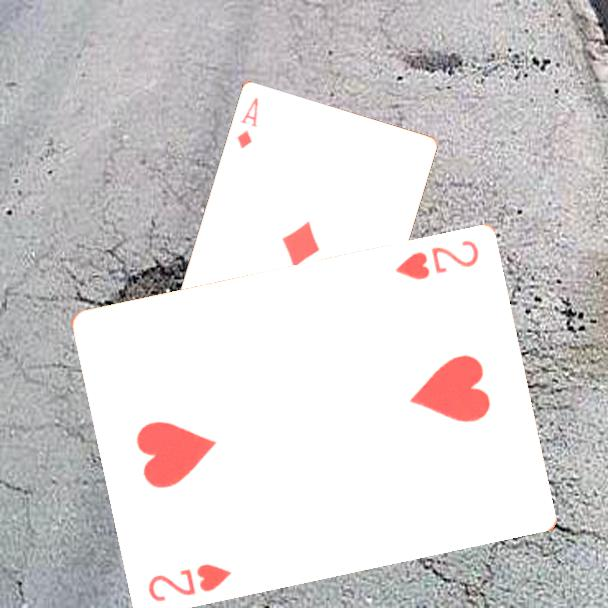d01: (233, 94, 261, 151)
h02: (391, 237, 481, 284), (144, 560, 234, 605)
